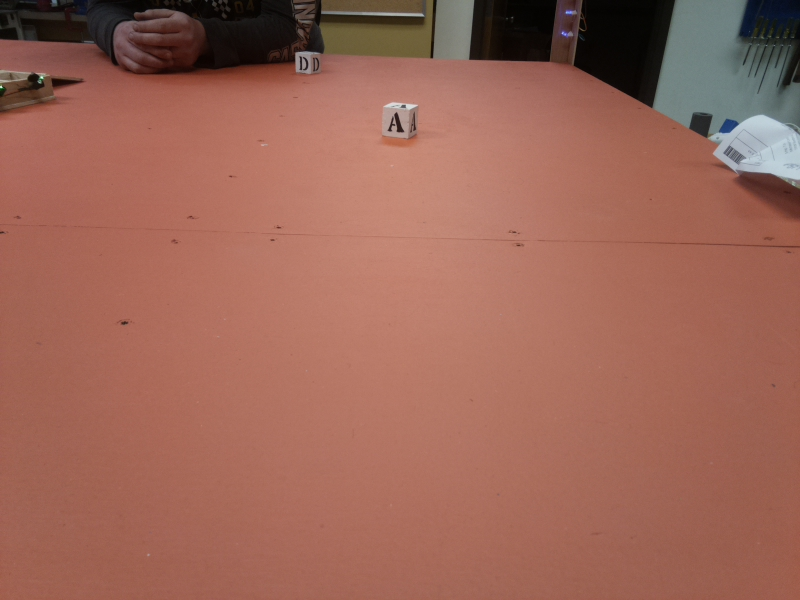blockA: (383, 102, 422, 141)
blockD: (295, 53, 320, 74)
corner: (552, 1, 581, 74)
side: (1, 75, 57, 112)
slope: (52, 68, 84, 94)
